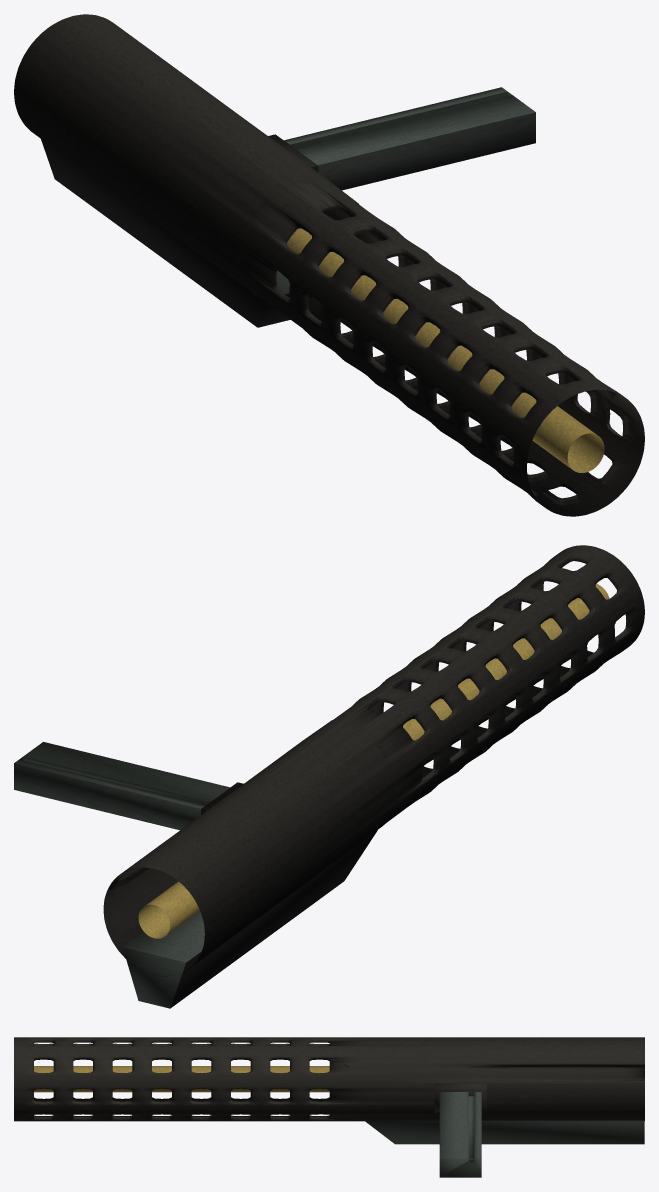
File: MachineRifle.fbx
The picture shows the model from 3 angles, top to bottom: view 1: azimuth 30°, elevation 25°; view 2: azimuth 150°, elevation 25°; view 3: azimuth 270°, elevation 25°; orthographic projection. The views are drawn at different scales.
Parts seen in each view (by area): view 1: Tube, Cube, Tube.001; view 2: Tube, Cube, Tube.001; view 3: Tube, Cube, Tube.001.
Boxes of the visible parts, x1=… form: Tube: x1=14, y1=14, x2=644, y2=516; Cube: x1=41, y1=87, x2=535, y2=327; Tube.001: x1=287, y1=228, x2=604, y2=473; Tube: x1=103, y1=545, x2=644, y2=976; Cube: x1=14, y1=742, x2=377, y2=1008; Tube.001: x1=138, y1=584, x2=609, y2=938; Tube: x1=14, y1=1037, x2=644, y2=1121; Cube: x1=364, y1=1084, x2=644, y2=1177; Tube.001: x1=34, y1=1066, x2=329, y2=1092.
Size of the model in its own units: 2.4 by 1.02 by 6.
Materials: 3 (3 with a texture image).
